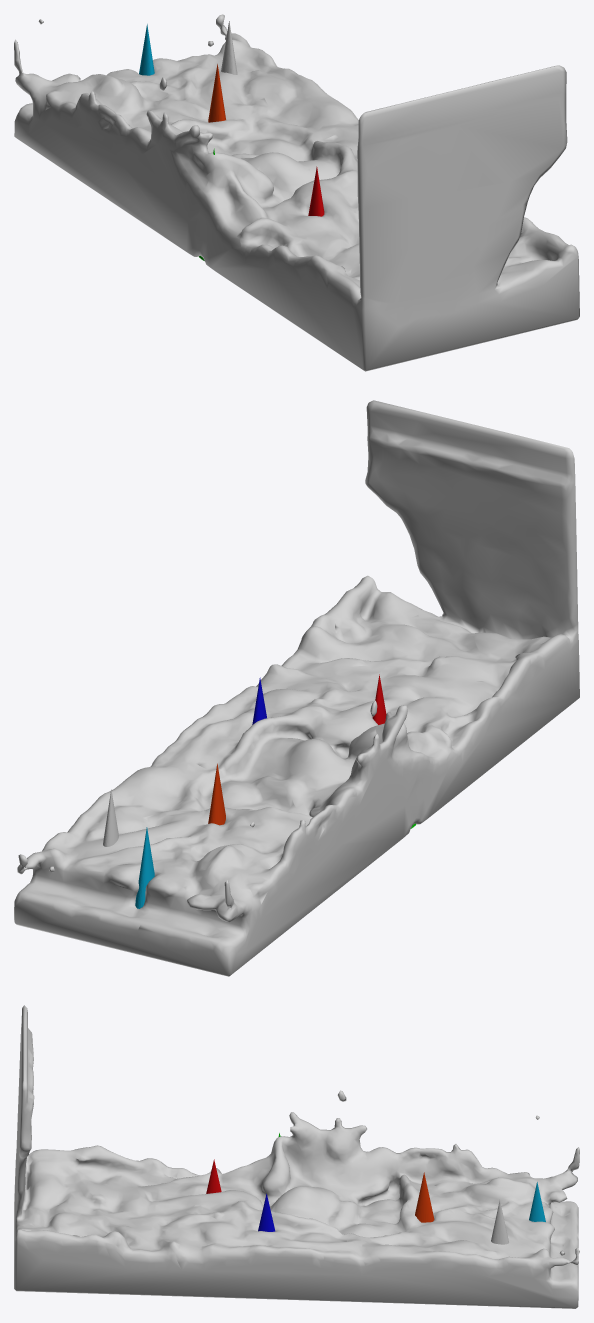
3 views of the same model, one above another, from view 1: azimuth 30°, elevation 25°; view 2: azimuth 150°, elevation 25°; view 3: azimuth 270°, elevation 25° (orthographic). The views are drawn at different scales.
Visible parts, largest first — view 1: Liquid_Domain, 円錐.004, 円錐, 円錐.001, 円錐.005; view 2: Liquid_Domain, 円錐.005; view 3: Liquid_Domain, 円錐.004, 円錐.
Part boxes in pixels (bbox=[...]): Liquid_Domain: bbox=[14, 14, 579, 371]; 円錐.004: bbox=[208, 64, 225, 122]; 円錐: bbox=[221, 21, 237, 74]; 円錐.001: bbox=[308, 166, 324, 216]; 円錐.005: bbox=[139, 24, 154, 75]; Liquid_Domain: bbox=[14, 400, 579, 976]; 円錐.005: bbox=[135, 827, 154, 908]; Liquid_Domain: bbox=[14, 1005, 579, 1308]; 円錐.004: bbox=[415, 1172, 434, 1222]; 円錐: bbox=[491, 1200, 508, 1244].
Bounding box in the file's own units: 129 × 158 × 362.
